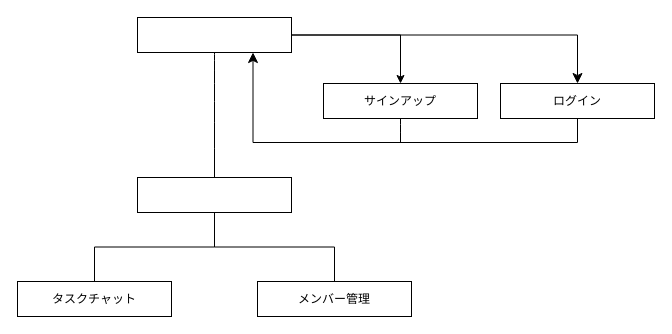
Image size: 672x334. Some labels were removed from this diagram. Here are the shapes that lost their labels. From the top down, the centre of each, then its label:
At point (214, 34): "トップページ".
At point (214, 194): "プロジェクト詳細".
